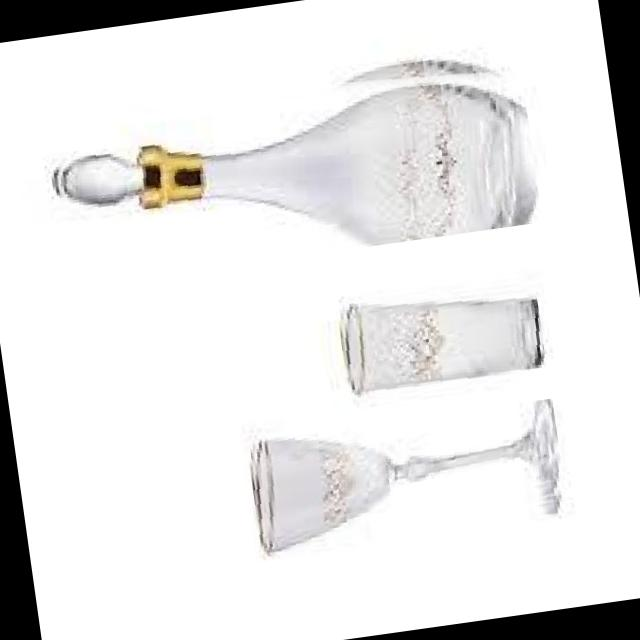Glass: (40, 38, 542, 288), (244, 398, 568, 556), (333, 276, 547, 398)
